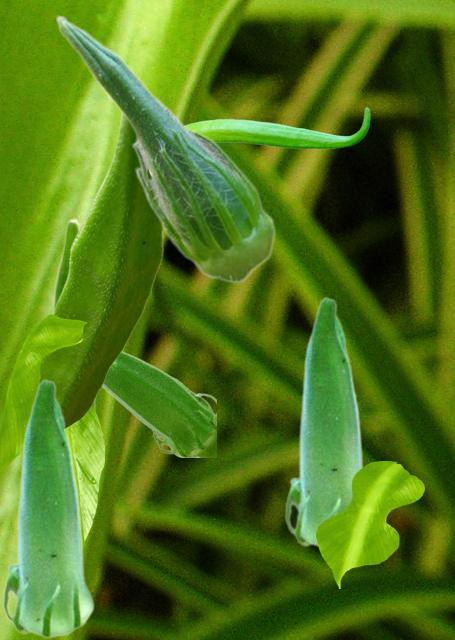okra: (55, 14, 275, 282), (41, 113, 162, 428), (2, 378, 94, 638), (284, 296, 365, 549), (102, 351, 215, 456), (50, 217, 97, 413), (187, 107, 369, 149)
